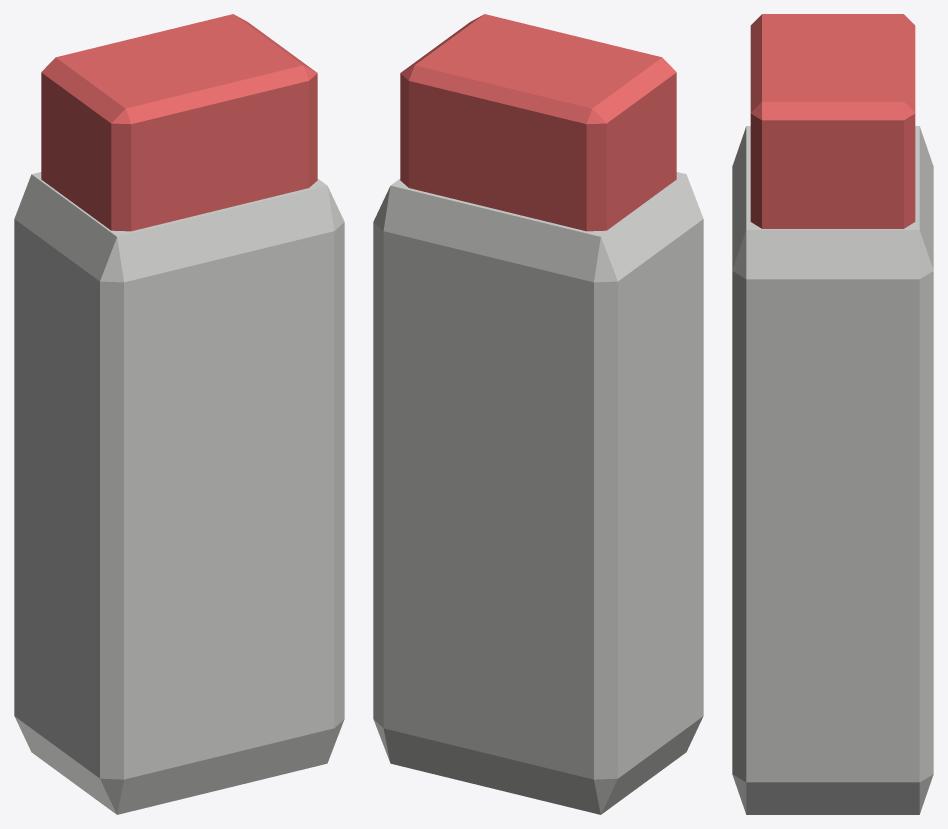
Rendered from b16_juice_box_with_straw.glb.
3 renders of one model, left to right at view 1: azimuth 30°, elevation 25°; view 2: azimuth 150°, elevation 25°; view 3: azimuth 270°, elevation 25°, orthographic.
Parts seen in each view (by area): view 1: b16_juice_box_with_straw; view 2: b16_juice_box_with_straw; view 3: b16_juice_box_with_straw.
Part boxes in pixels (box(x1,y1,x2,y2)): b16_juice_box_with_straw: box(14, 14, 344, 814); b16_juice_box_with_straw: box(373, 14, 703, 814); b16_juice_box_with_straw: box(732, 14, 933, 814).
Bounding box in the file's own units: 0.061 × 0.166 × 0.043.
